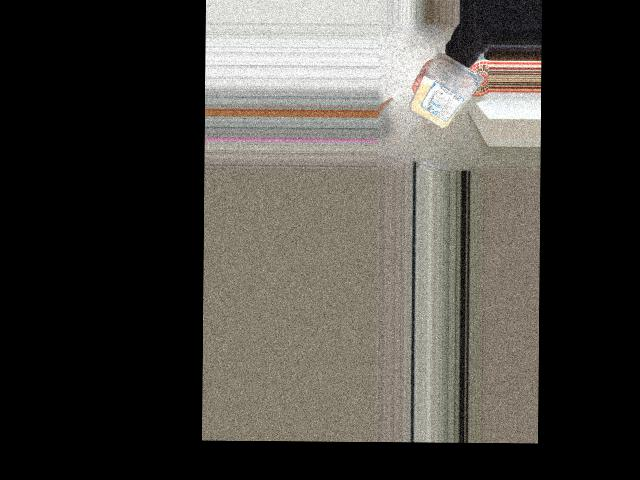cheese: (414, 59, 477, 131)
